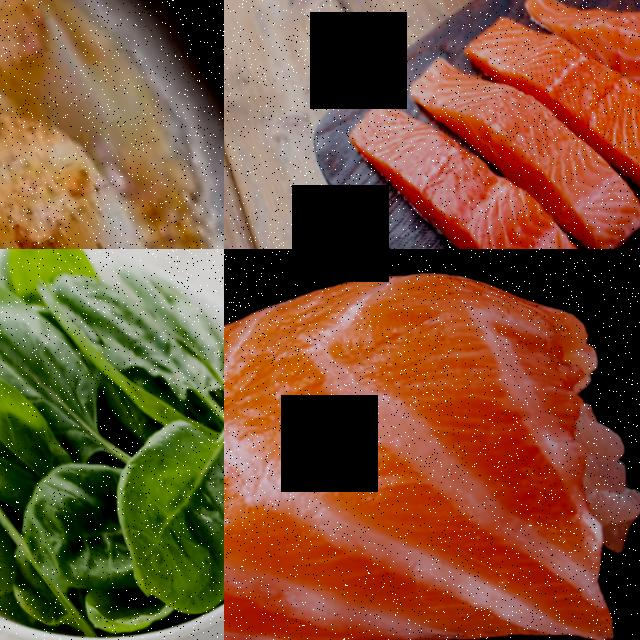salmon: (224, 249, 640, 640), (457, 48, 640, 249), (371, 89, 600, 249), (518, 0, 640, 226), (596, 0, 640, 156)
sea scallops: (0, 80, 195, 249), (0, 0, 91, 142)
spinach: (59, 399, 224, 629), (0, 292, 127, 467), (0, 459, 133, 609), (0, 294, 64, 510)
